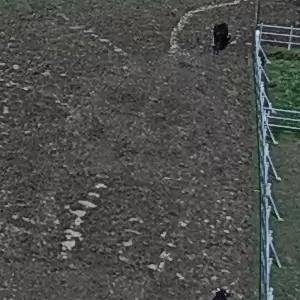cow: (192, 14, 237, 58)
